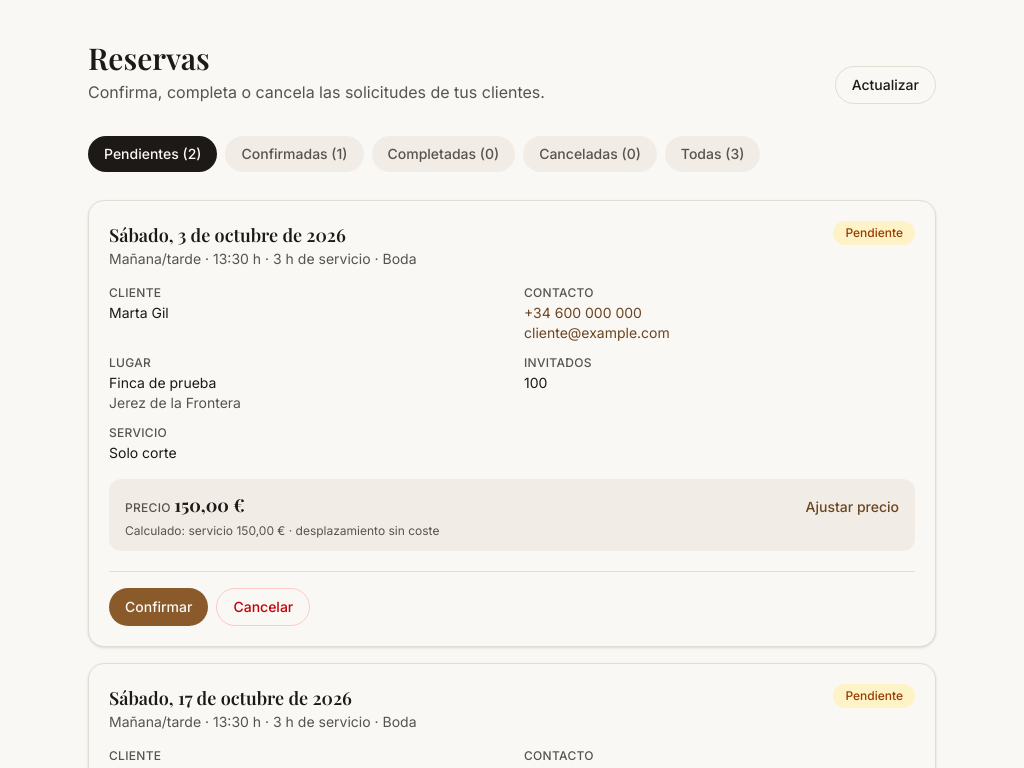
AdminDashboard › ajustar el precio envía el nuevo precio con su motivo y muestra el calculado tachado
Step 1. Click the button "Ajustar precio" → (852, 507), box left=806, top=497, right=899, bottom=517
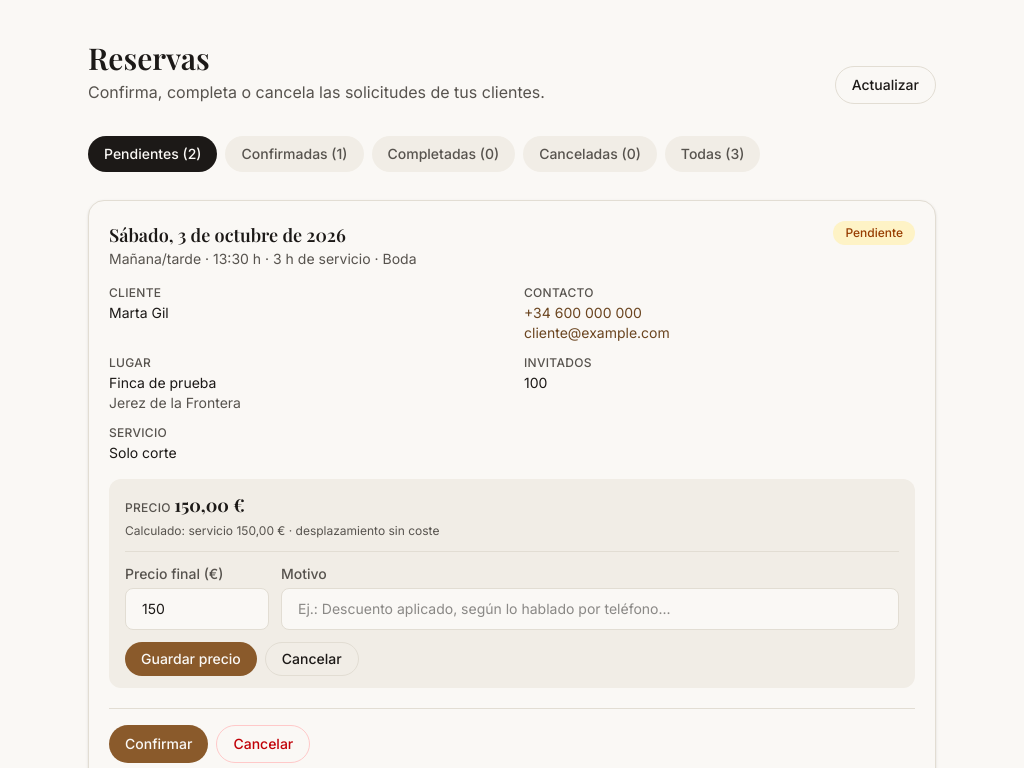
Now the number field labelled "Precio final (€)" holds "150"
Step 2. Replace the text in the number field labelled "Precio final (€)" with "120" → (197, 609), box left=125, top=588, right=269, bottom=630
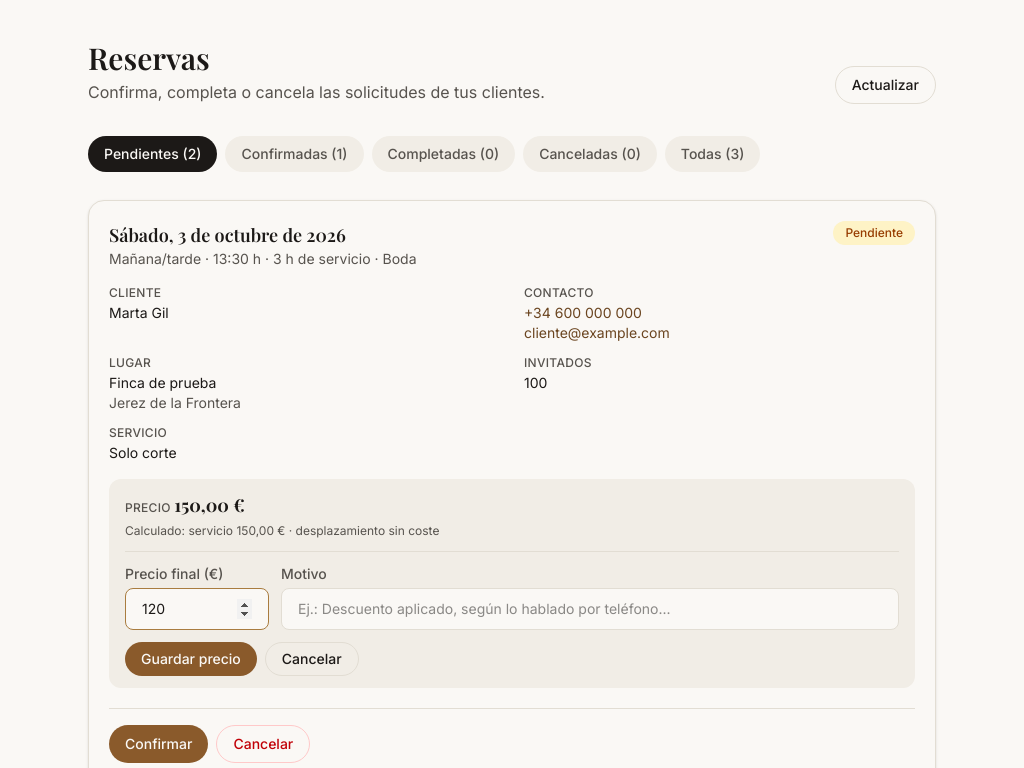
Step 3. Type "Descuento aplicado" into the field labelled "Motivo" → (590, 609), box left=281, top=588, right=899, bottom=630
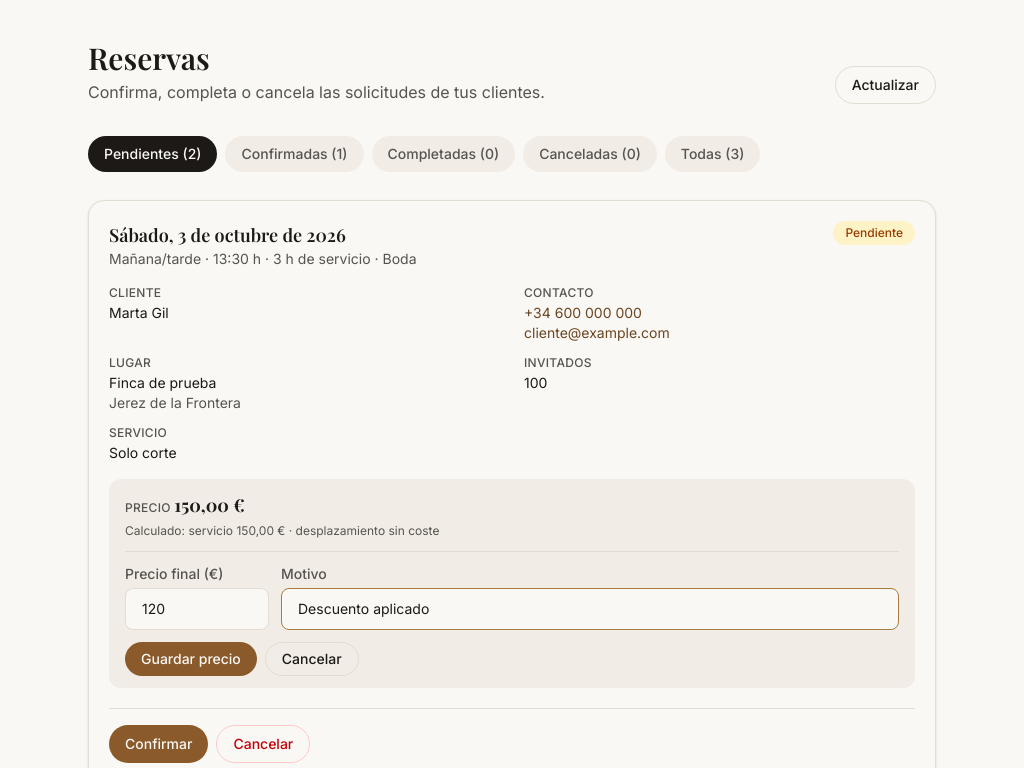
Step 4. Click the button "Guardar precio" → (191, 659), box left=125, top=642, right=257, bottom=676
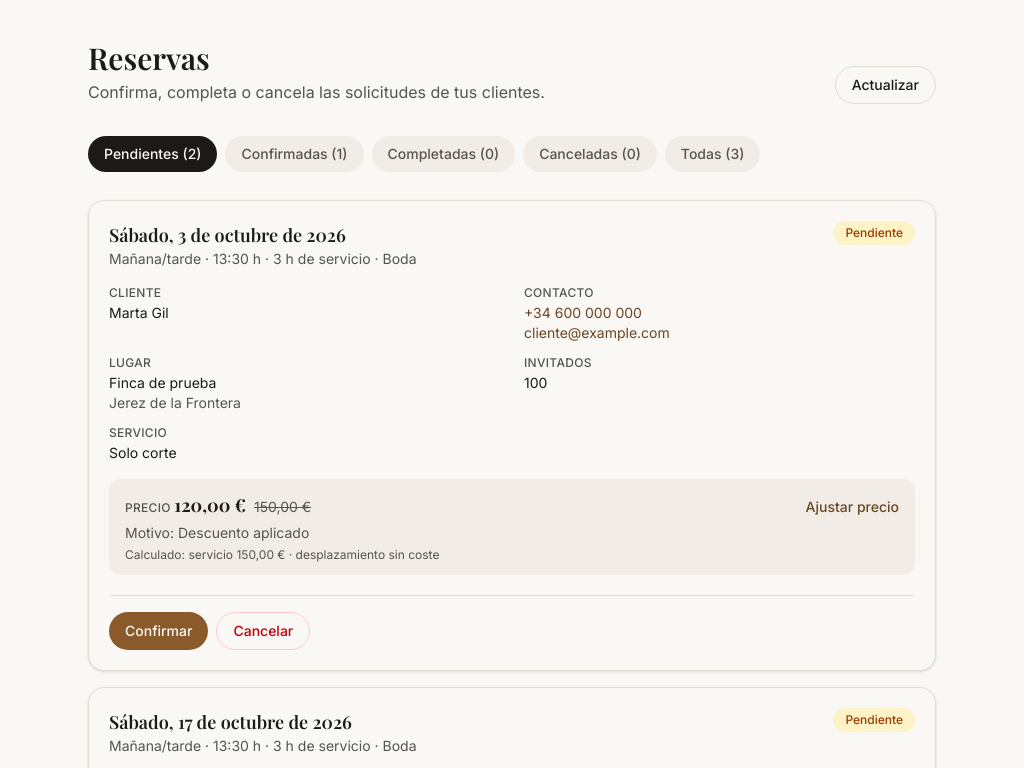
Expected: the text with class "line-through" shows "150,00", left=254, top=498, right=311, bottom=515
Now the text "Motivo: Descuento aplicado" is shown, box left=125, top=524, right=309, bottom=541
